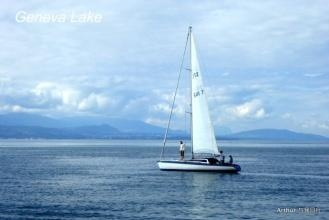fanchuan: (154, 25, 247, 173)
